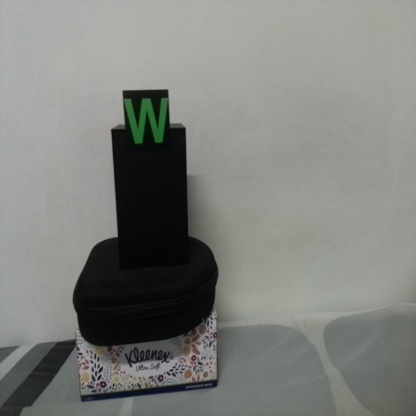id_12: (122, 91, 171, 156)
